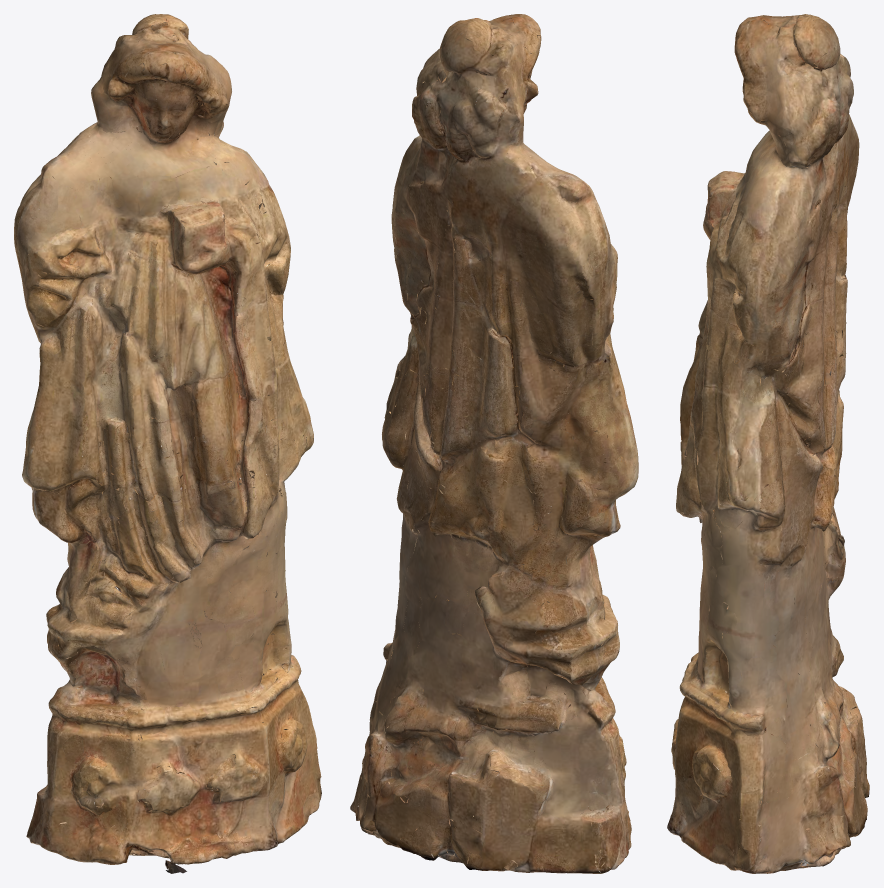
File: scan-barbara.glb
3 views of the same model, side by side, from view 1: azimuth 30°, elevation 25°; view 2: azimuth 150°, elevation 25°; view 3: azimuth 270°, elevation 25° (orthographic). The views are drawn at different scales.
Visible parts, largest first — view 1: geometry_7, geometry_5, geometry_6, geometry_4, geometry_3, geometry_1, geometry_2, geometry_0; view 2: geometry_6, geometry_7, geometry_4, geometry_5, geometry_3, geometry_2, geometry_1; view 3: geometry_7, geometry_6, geometry_5, geometry_4, geometry_3, geometry_2, geometry_1, geometry_0.
Boxes of the visible parts, x1,y1,x2,y2 form: geometry_7: [14, 25, 320, 861]; geometry_5: [22, 14, 321, 853]; geometry_6: [14, 14, 320, 864]; geometry_4: [14, 14, 301, 864]; geometry_3: [22, 21, 320, 872]; geometry_1: [39, 35, 313, 873]; geometry_2: [29, 63, 303, 864]; geometry_0: [38, 95, 285, 865]; geometry_6: [351, 14, 630, 873]; geometry_7: [360, 18, 631, 867]; geometry_4: [350, 18, 638, 872]; geometry_5: [354, 20, 630, 861]; geometry_3: [358, 14, 637, 870]; geometry_2: [356, 34, 625, 871]; geometry_1: [357, 22, 614, 872]; geometry_7: [667, 15, 867, 873]; geometry_6: [667, 14, 866, 873]; geometry_5: [676, 14, 859, 873]; geometry_4: [668, 16, 868, 873]; geometry_3: [680, 16, 869, 873]; geometry_2: [672, 79, 867, 866]; geometry_1: [677, 20, 859, 870]; geometry_0: [679, 58, 861, 865].
Size of the model in its own units: 0.7292 by 2 by 0.4585.
Materials: 7 (7 with a texture image).
